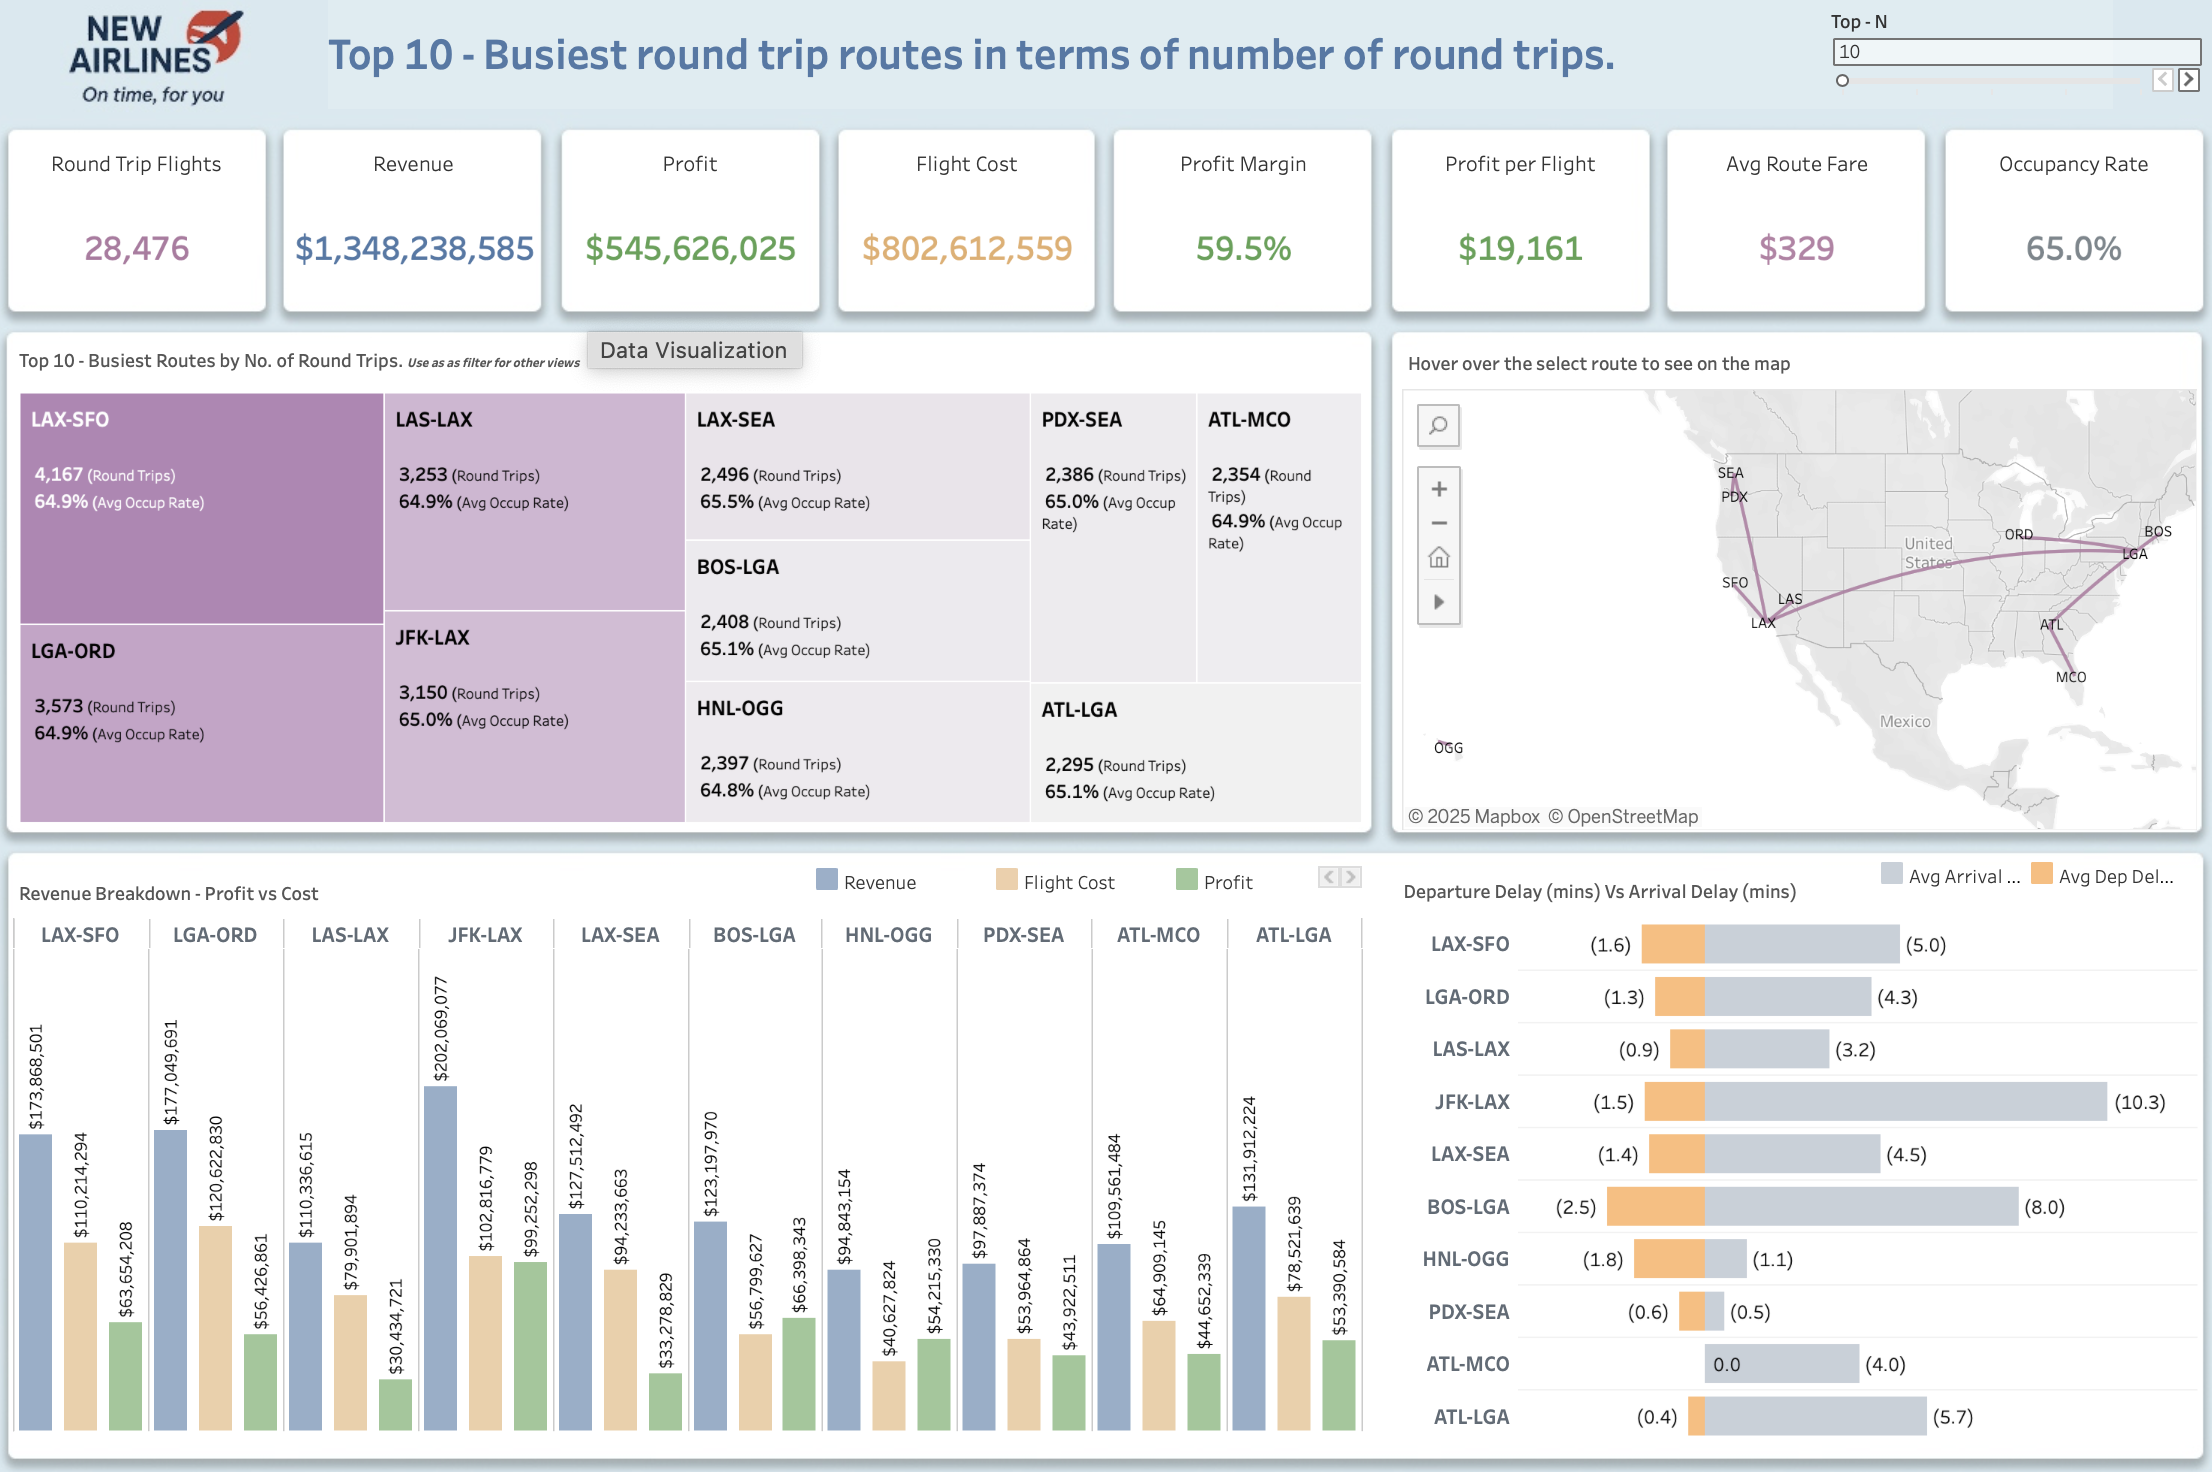

Layout of this report page (visuals, bound fields, positions):
{"tool":"tableau","page":{"name":"Top 10 - Busy Routes","canvas":[1500,1000],"ordinal":3},"visuals":[{"type":"image","param":"Image/Frame 1-2.jpg","box":[0,0,1500,1000]},{"type":"text","box":[230,5,1190,76]},{"type":"parameter","param":"[Parameters].[Parameter 1]","box":[1232,14,248,71]},{"type":"worksheet","title":"Q1 - Header","mark":"Automatic","box":[10,99,1476,113]},{"type":"worksheet","title":"Q1 - Bar Graph","mark":"Automatic","box":[20,233,903,328]},{"type":"worksheet","title":"Q1 - Map","mark":"Multipolygon","box":[946,235,530,327]},{"type":"legend","title":"Q1 - Delay Bar","param":"[federated.0pieytd05f6hov1c86eks0ezu1k9].[:Measure Names]","box":[1262,580,211,25]},{"type":"legend","title":"Q1 - Revenue Bar","param":"[federated.0pieytd05f6hov1c86eks0ezu1k9].[:Measure Names]","box":[552,584,369,21]},{"type":"worksheet","title":"Q1 - Delay Bar","mark":"Bar","rows":["CANONICAL_ROUTE_PAIR"],"cols":["DEP_DELAY","Calculation_3292835024579313665"],"box":[943,587,534,384]},{"type":"worksheet","title":"Q1 - Revenue Bar","mark":"Automatic","cols":["CANONICAL_ROUTE_PAIR"],"box":[20,588,900,375]}]}

Visuals, with their boxes in screenshot pixels (x1, y1, x2, y2), scaled from the page's 1500x1000 canvas onto the 2212x1472 screenshot:
image: bbox=(0, 0, 2211, 1471)
text: bbox=(339, 7, 2094, 119)
parameter: bbox=(1817, 21, 2183, 125)
"Q1 - Header" worksheet: bbox=(15, 146, 2191, 312)
"Q1 - Bar Graph" worksheet: bbox=(29, 343, 1361, 826)
"Q1 - Map" worksheet (Multipolygon marks): bbox=(1395, 346, 2177, 827)
"Q1 - Delay Bar" legend: bbox=(1861, 854, 2172, 891)
"Q1 - Revenue Bar" legend: bbox=(814, 860, 1358, 891)
"Q1 - Delay Bar" worksheet (Bar marks): bbox=(1391, 864, 2178, 1429)
"Q1 - Revenue Bar" worksheet: bbox=(29, 866, 1357, 1418)
